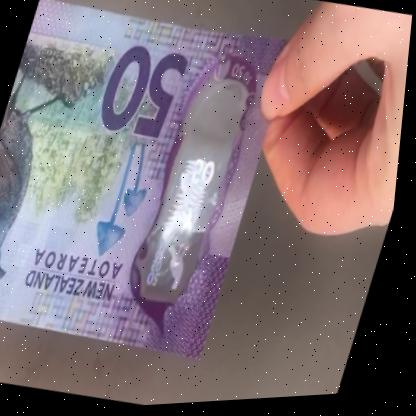50B: (143, 96, 242, 309)
